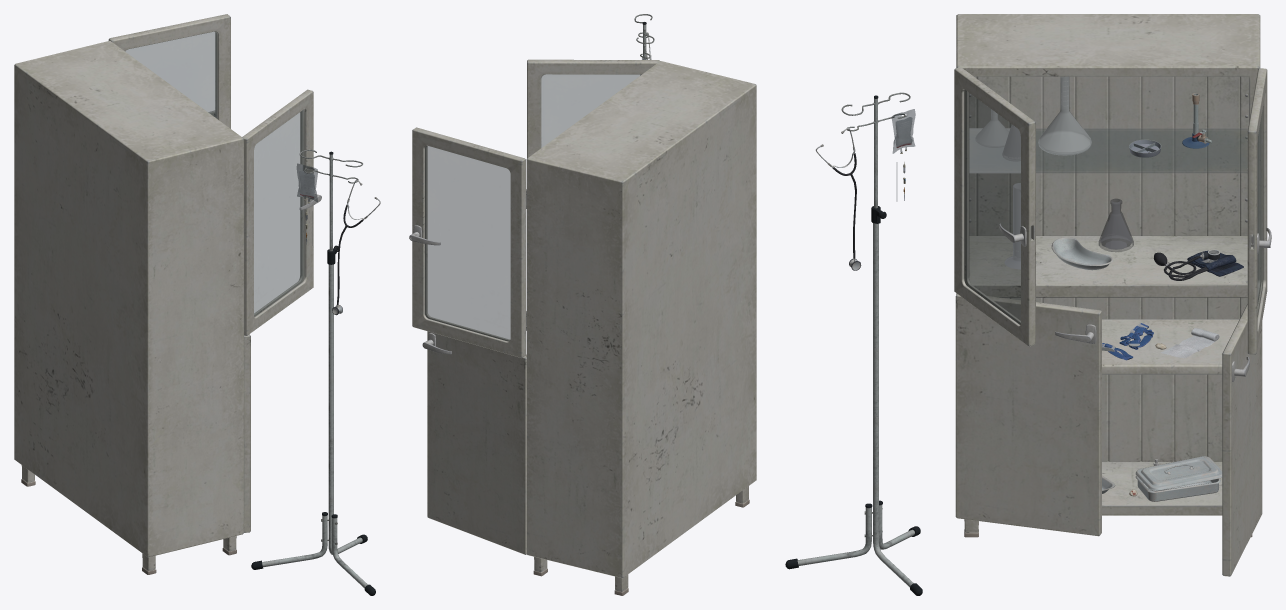
Rendered from doctors_office_-_assets.glb.
3 views of the same model, side by side, from view 1: azimuth 30°, elevation 25°; view 2: azimuth 150°, elevation 25°; view 3: azimuth 270°, elevation 25° (orthographic). The views are drawn at different scales.
Parts seen in each view (by area): view 1: MedicalCabinet_28, MedicalCabinet_Door_Top_Glass_01_21, MedicalCabinet_Door_Top.001_23, MedicalCabinet_Door_Top_Glass_17, MedicalCabinet_Door_Top_20, Dripper_Main_9, MedicalCabinet_Door_Down_01_16, Dripper_Legs_7, MedicalCabinet_Legs_24, SalineBag_Insides_8; view 2: MedicalCabinet_28, MedicalCabinet_Door_Down_13, MedicalCabinet_Door_Top_Glass_17, MedicalCabinet_Door_Top_20, MedicalCabinet_Door_Top_Glass_01_21, MedicalCabinet_Door_Top.001_23, MedicalCabinet_Legs_24; view 3: MedicalCabinet_Plates_Mirrored_25, MedicalCabinet_28, MedicalCabinet_Door_Down_01_16, MedicalCabinet_Door_Top_Glass_01_21, MedicalCabinet_Door_Top.001_23, MedicalCabinet_Shelf_Glass_26, MedicalCabinet_Door_Down_13, MedicalCabinet_Shelf_Metal_27, MedicalCabinet_Door_Top_20, Dripper_Main_9, Flask_Big_30, MedcialTray_Box_Lid_36 (+10 smaller).
Boxes of the visible parts, x1,y1,x2,y2 form: MedicalCabinet_28: [14, 40, 243, 557]; MedicalCabinet_Door_Top_Glass_01_21: [254, 109, 304, 316]; MedicalCabinet_Door_Top.001_23: [242, 89, 313, 335]; MedicalCabinet_Door_Top_Glass_17: [125, 31, 217, 118]; MedicalCabinet_Door_Top_20: [108, 14, 230, 128]; Dripper_Main_9: [299, 149, 367, 554]; MedicalCabinet_Door_Down_01_16: [244, 334, 250, 532]; Dripper_Legs_7: [251, 512, 375, 595]; MedicalCabinet_Legs_24: [21, 465, 236, 574]; SalineBag_Insides_8: [296, 163, 317, 203]; MedicalCabinet_28: [526, 61, 756, 578]; MedicalCabinet_Door_Down_13: [427, 331, 526, 554]; MedicalCabinet_Door_Top_Glass_17: [425, 146, 510, 341]; MedicalCabinet_Door_Top_20: [412, 127, 525, 357]; MedicalCabinet_Door_Top_Glass_01_21: [541, 74, 640, 147]; MedicalCabinet_Door_Top.001_23: [527, 59, 659, 158]; MedicalCabinet_Legs_24: [533, 486, 749, 595]; MedicalCabinet_Plates_Mirrored_25: [969, 76, 1248, 465]; MedicalCabinet_28: [956, 14, 1260, 515]; MedicalCabinet_Door_Down_01_16: [955, 294, 1101, 536]; MedicalCabinet_Door_Top_Glass_01_21: [964, 90, 1020, 324]; MedicalCabinet_Door_Top.001_23: [954, 67, 1035, 346]; MedicalCabinet_Shelf_Glass_26: [969, 128, 1247, 172]; MedicalCabinet_Door_Down_13: [1222, 304, 1262, 576]; MedicalCabinet_Shelf_Metal_27: [1102, 319, 1239, 374]; MedicalCabinet_Door_Top_20: [1247, 68, 1267, 354]; Dripper_Main_9: [841, 92, 922, 595]; Flask_Big_30: [1038, 76, 1091, 155]; MedcialTray_Box_Lid_36: [1135, 456, 1222, 490].
Size of the model in its own units: 0.9162 by 1.72 by 1.6.
5 materials, 5 textured.
